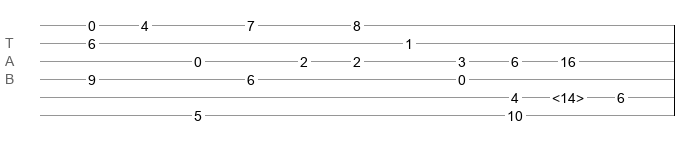0: (88, 18, 96, 28), (194, 54, 202, 64), (458, 72, 466, 82)
1: (405, 36, 413, 46)
10: (507, 108, 523, 118)
16: (560, 54, 576, 64)
2: (300, 54, 308, 64), (353, 54, 361, 64)
3: (458, 54, 466, 64)
4: (141, 18, 149, 28), (511, 90, 519, 100)
5: (194, 108, 202, 118)
6: (88, 36, 96, 46), (247, 72, 255, 82), (511, 54, 519, 64), (617, 90, 625, 100)
7: (247, 18, 255, 28)
8: (353, 18, 361, 28)
9: (88, 72, 96, 82)
harmonic: (552, 90, 584, 100)
